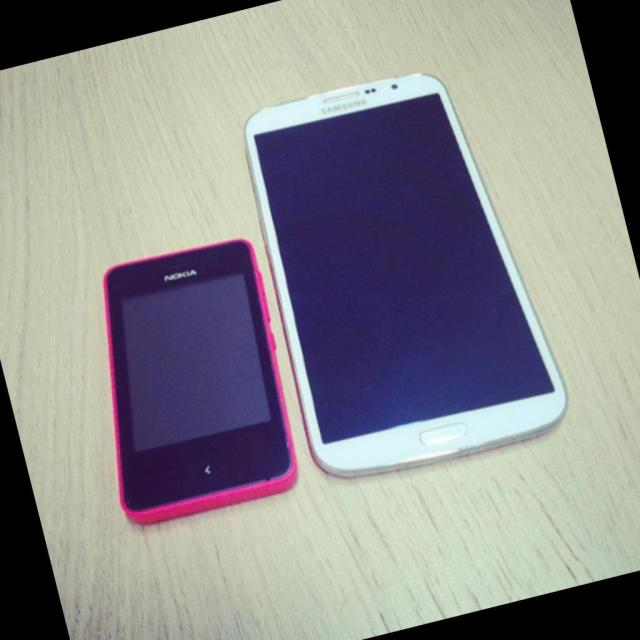handphone: (249, 91, 552, 467), (116, 241, 263, 527)
